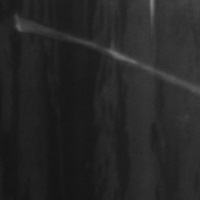scratches: (13, 14, 196, 97)
